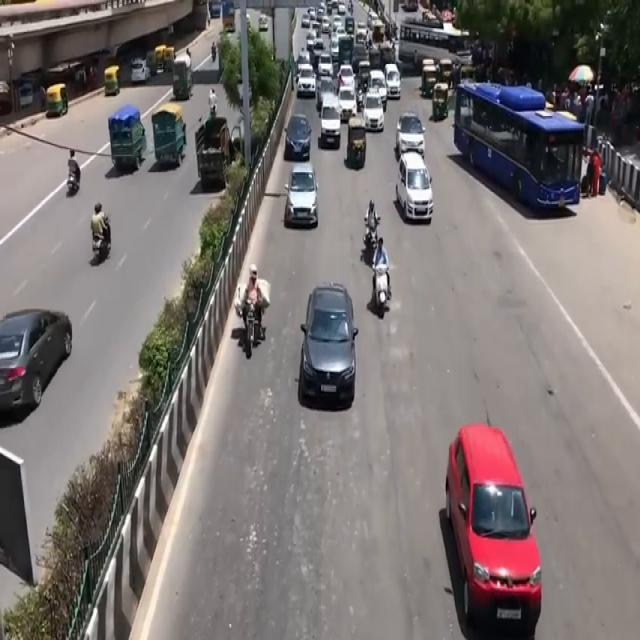BUS: (454, 76, 582, 225)
MOTORCYCLE: (373, 263, 392, 320), (239, 302, 256, 364), (362, 220, 378, 266), (67, 169, 82, 197)
